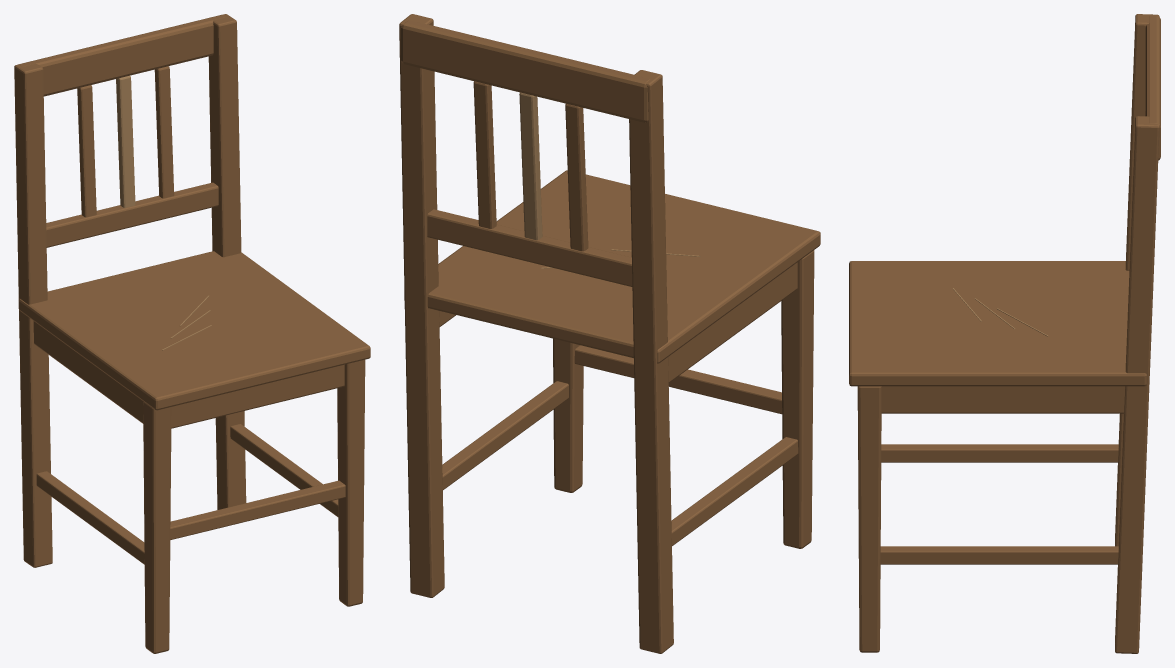
File: GheAn_bo.glb
3 renders of one model, left to right at view 1: azimuth 30°, elevation 25°; view 2: azimuth 150°, elevation 25°; view 3: azimuth 270°, elevation 25°, orthographic. The views are drawn at different scales.
Parts seen in each view (by area): view 1: geometry_0; view 2: geometry_0; view 3: geometry_0.
Boxes of the visible parts, x1,y1,x2,y2 form: geometry_0: (14,14,370,653); geometry_0: (399,14,820,653); geometry_0: (849,14,1160,653).
Bounding box in the file's own units: 0.39 × 0.846 × 0.4519.
